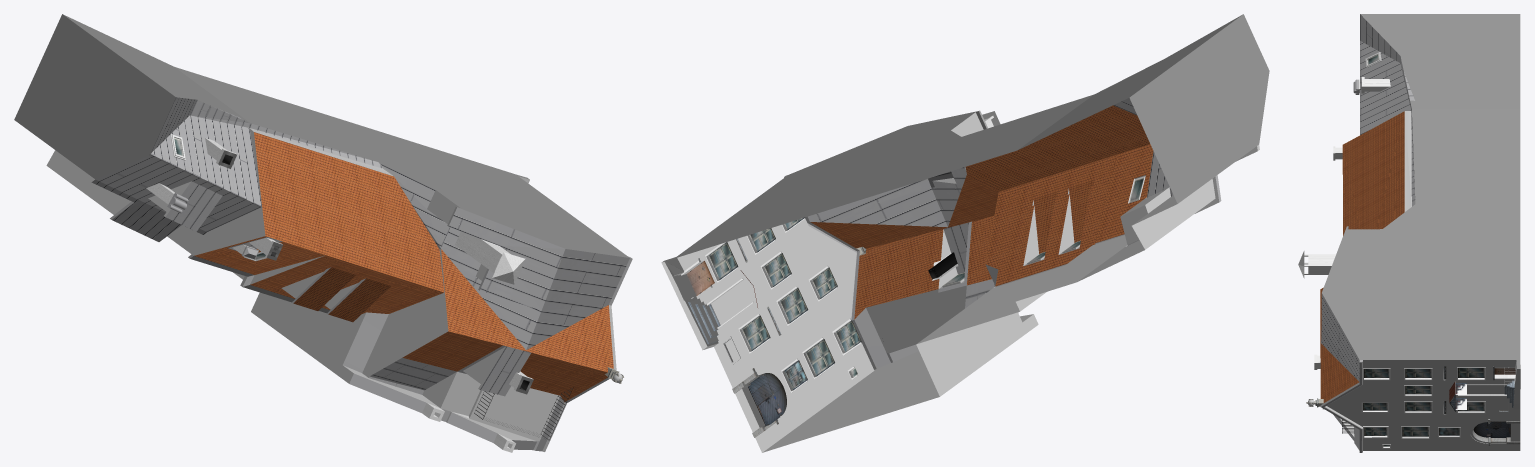
Rendered from Rataskaevu_16.obj.
3 views of the same model, side by side, from view 1: azimuth 30°, elevation 25°; view 2: azimuth 150°, elevation 25°; view 3: azimuth 270°, elevation 25° (orthographic). The views are drawn at different scales.
Parts seen in each view (by area): view 1: Rataskaevu_16; view 2: Rataskaevu_16; view 3: Rataskaevu_16.
Part boxes in pixels (<box>): Rataskaevu_16: <box>14,14,632,452</box>; Rataskaevu_16: <box>661,14,1269,452</box>; Rataskaevu_16: <box>1298,14,1520,452</box>.
Size of the model in its own units: 33.55 by 27.62 by 17.83.
